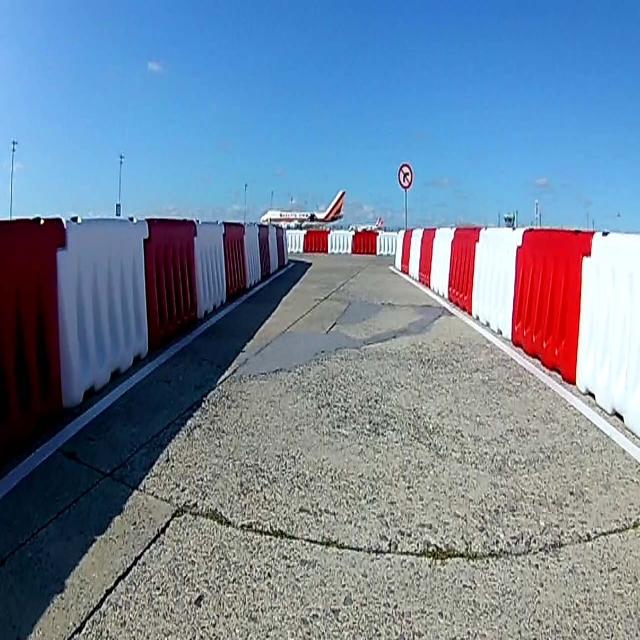sagadonulmez: (396, 163, 413, 189)
